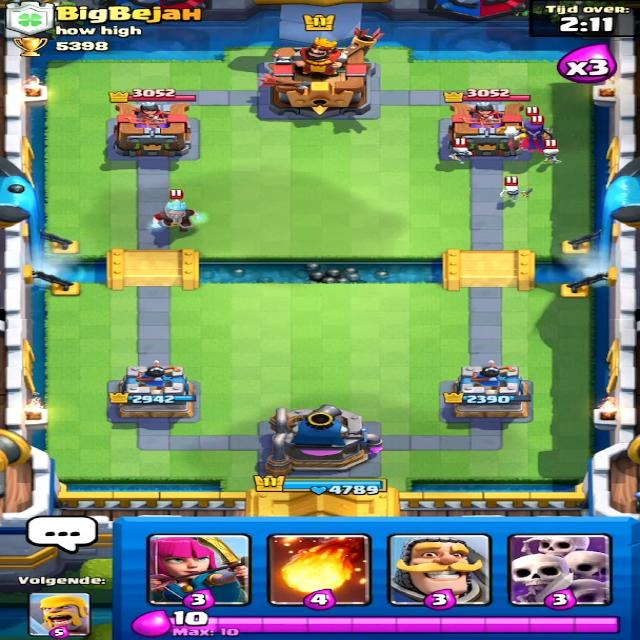Enemy_Ice_Wizard_Troop: (154, 198, 211, 235)
Enemy_Skeleton_Troop: (498, 183, 532, 203), (447, 147, 478, 167), (536, 148, 564, 165)
Enemy_Witch_Troop: (503, 121, 558, 158)
Fireball_Card: (274, 530, 369, 606)
